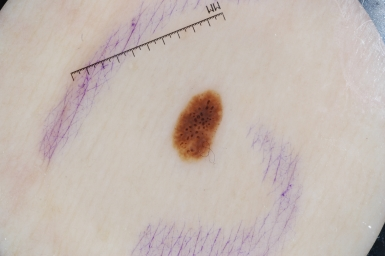seborrheic keratosis: (157, 85, 236, 173)
